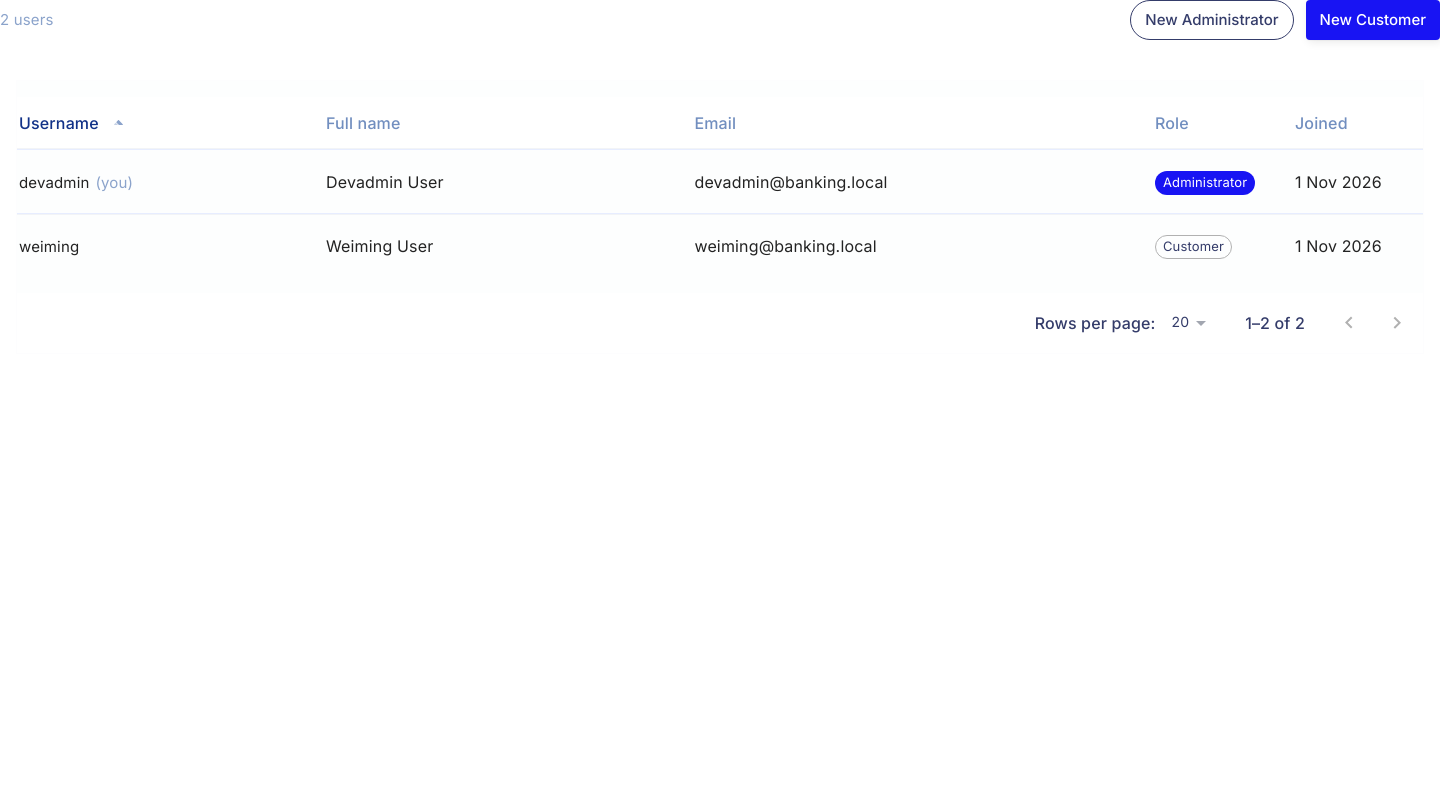
Test: admin users page › shows the demo guard's reason when a shared demo user can't be deleted
Click the text "weiming".
click(49, 246)  # box [19,237,79,256]
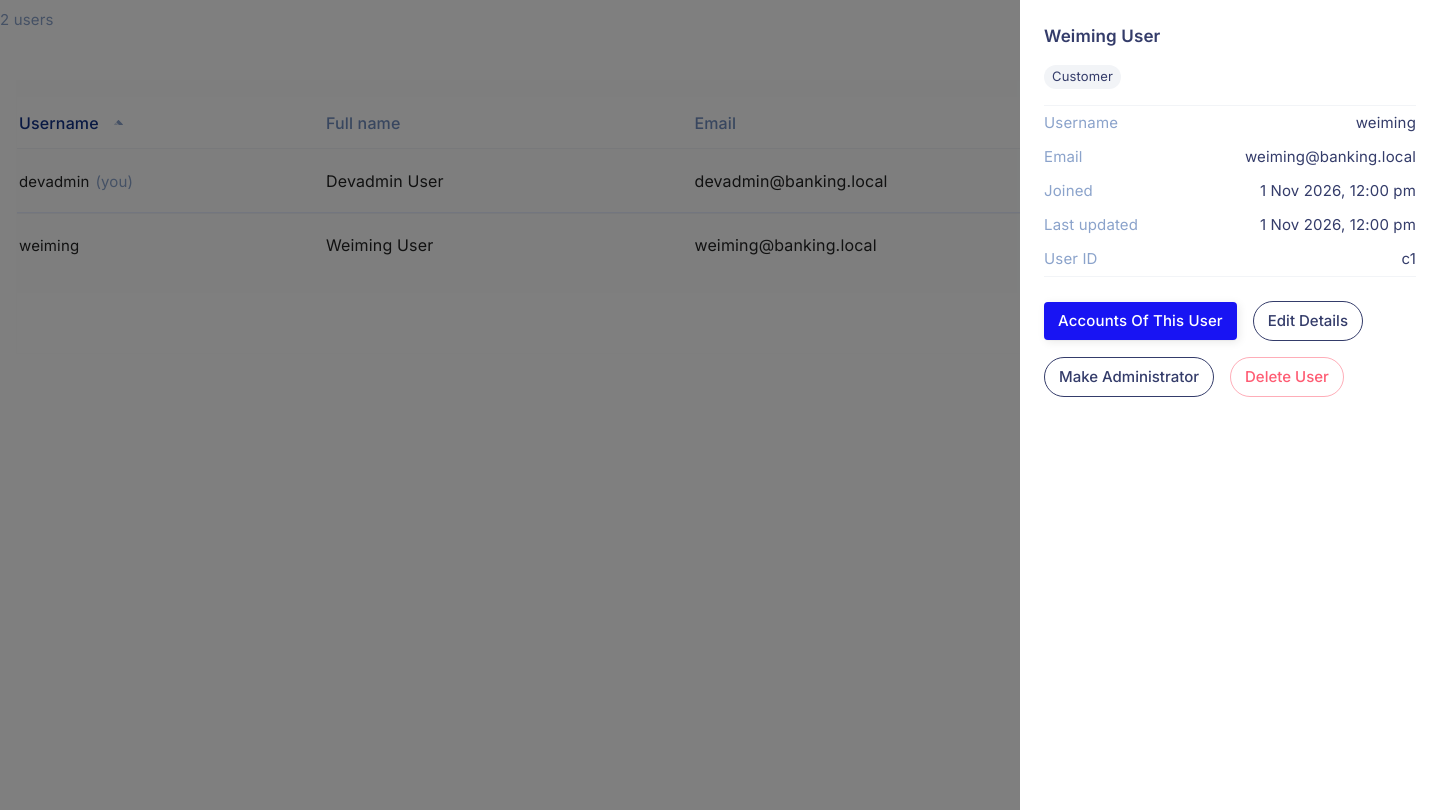
Click the button "Delete user".
click(1287, 377)  # box [1230,357,1344,397]
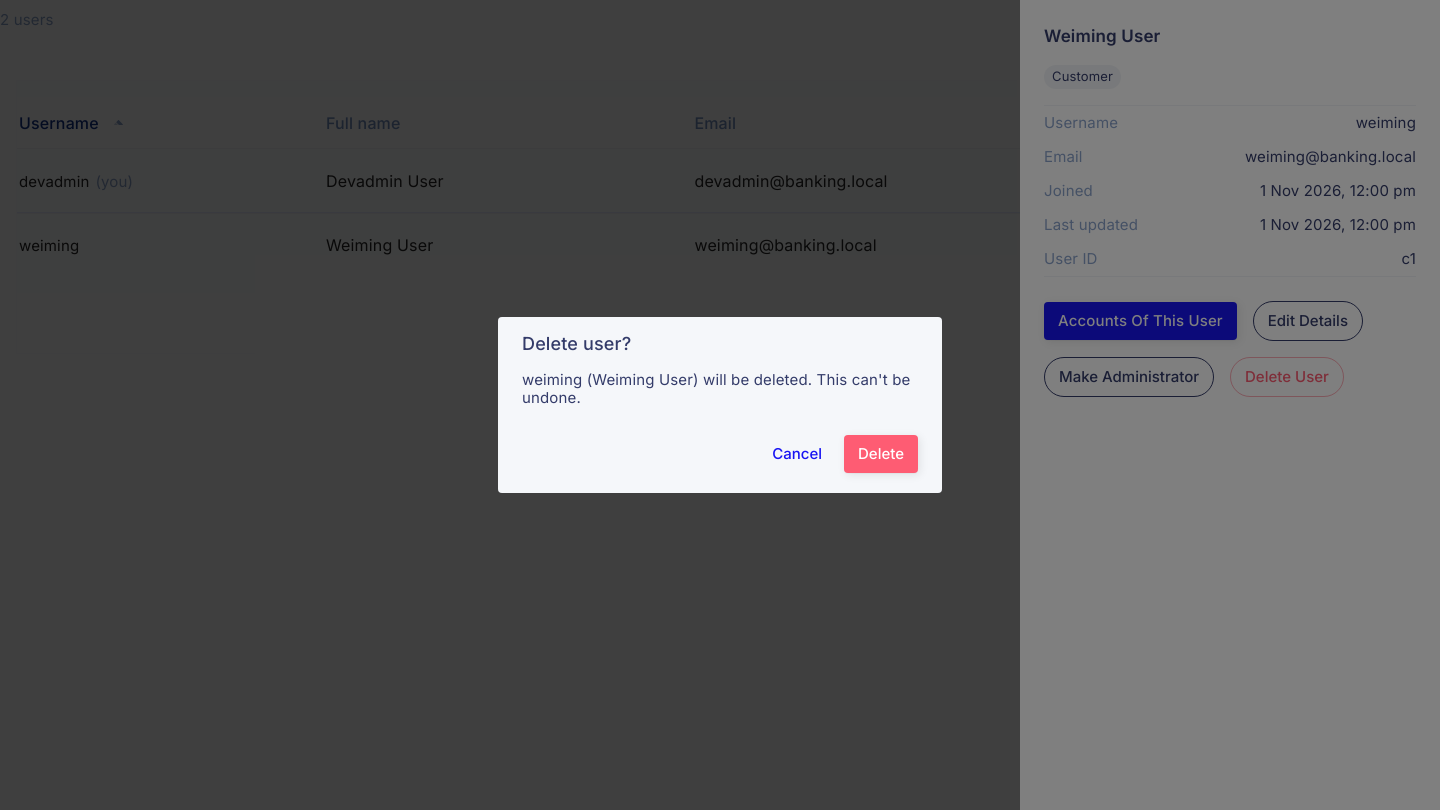
Click the button "Delete".
click(881, 454)  # box [844,435,918,473]
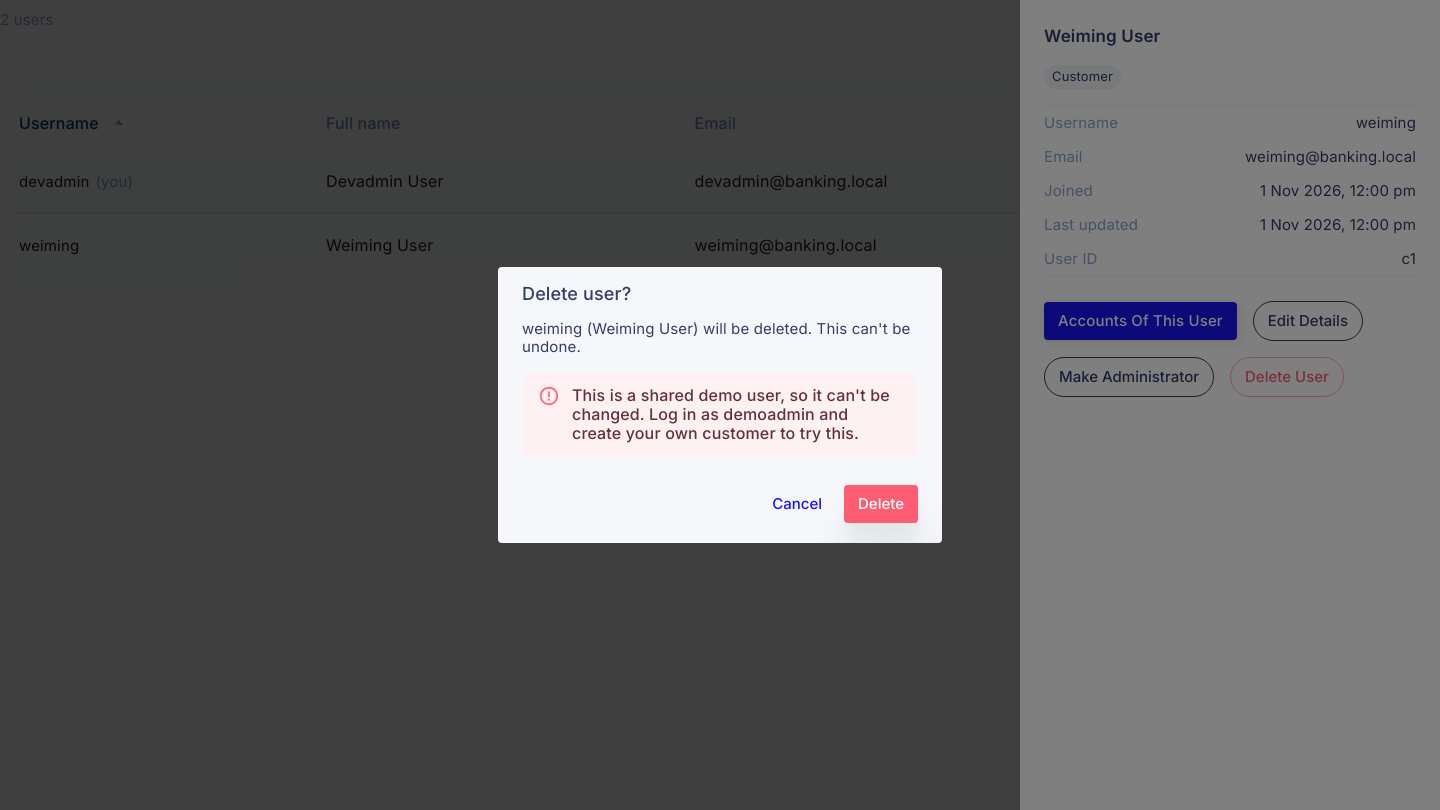
Expected: the text "2 users" is shown, [0,11,54,29]
Expected: the text "This is a shared demo user, so it can't be changed. Log in as demoadmin and create your own customer to try this." is shown, [572,386,890,444]
